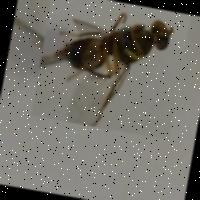Oriental-fruit-fly: (29, 0, 189, 139)
